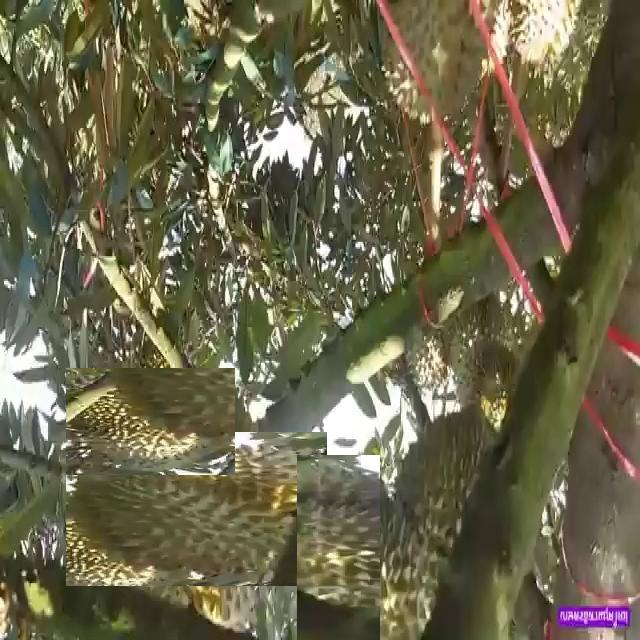durian: (92, 405, 300, 613), (380, 398, 532, 640), (290, 462, 476, 640), (81, 352, 220, 490), (368, 2, 506, 136)
